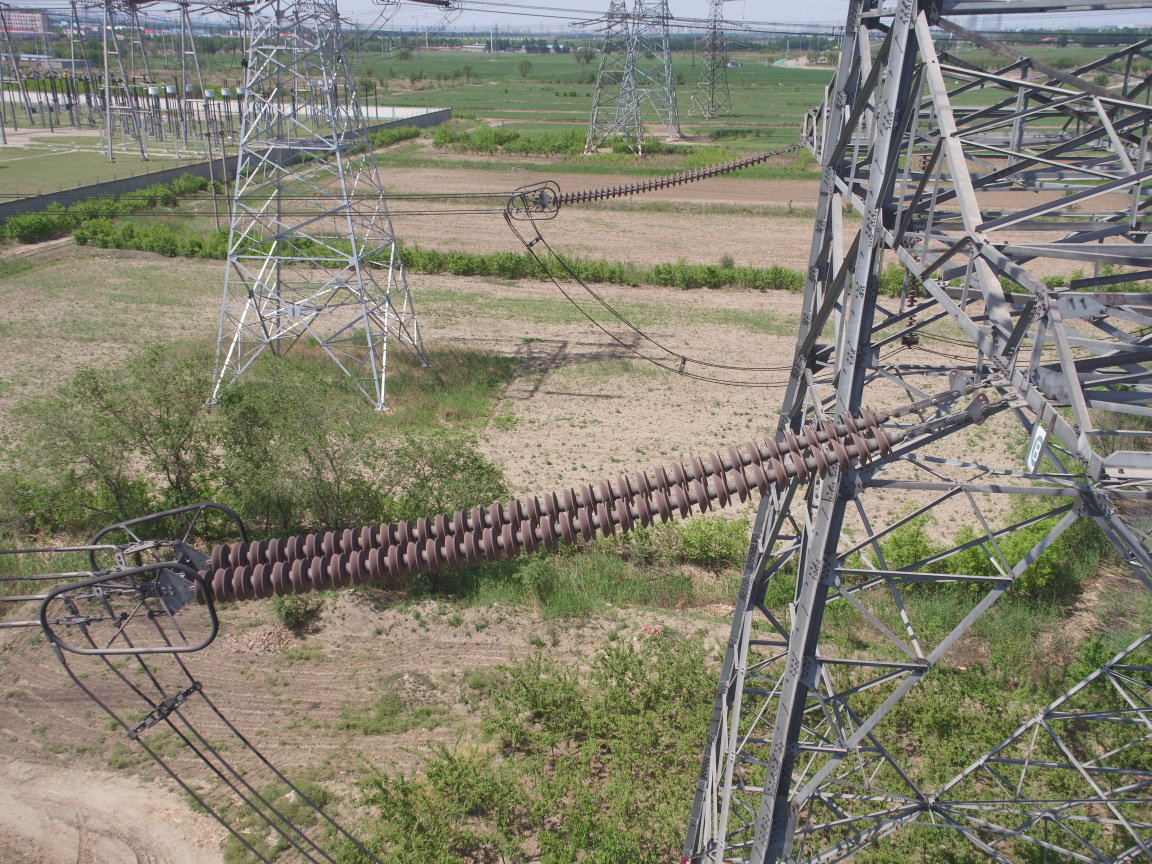insulator: (180, 397, 940, 609), (549, 139, 801, 209)
